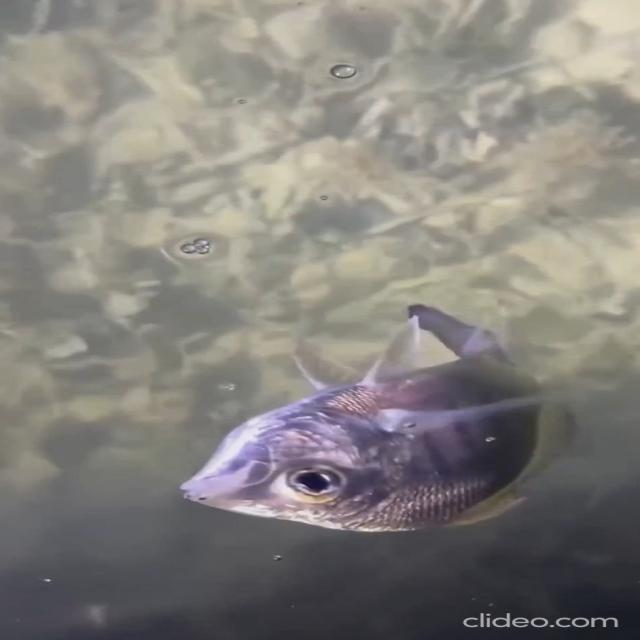fish: (163, 297, 570, 537)
